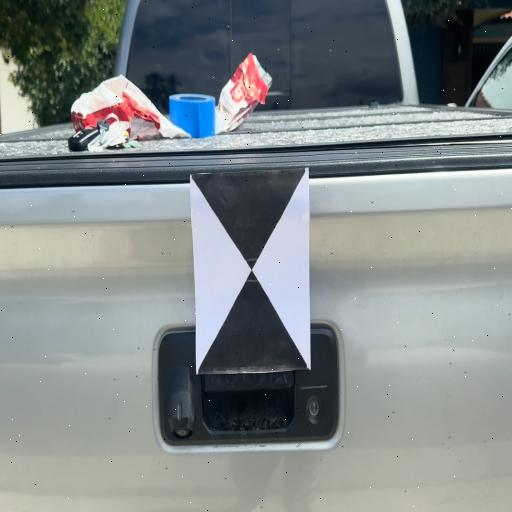target: (190, 177, 310, 365)
